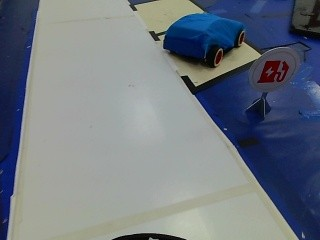battery: (249, 48, 293, 93)
car: (150, 7, 247, 67)
